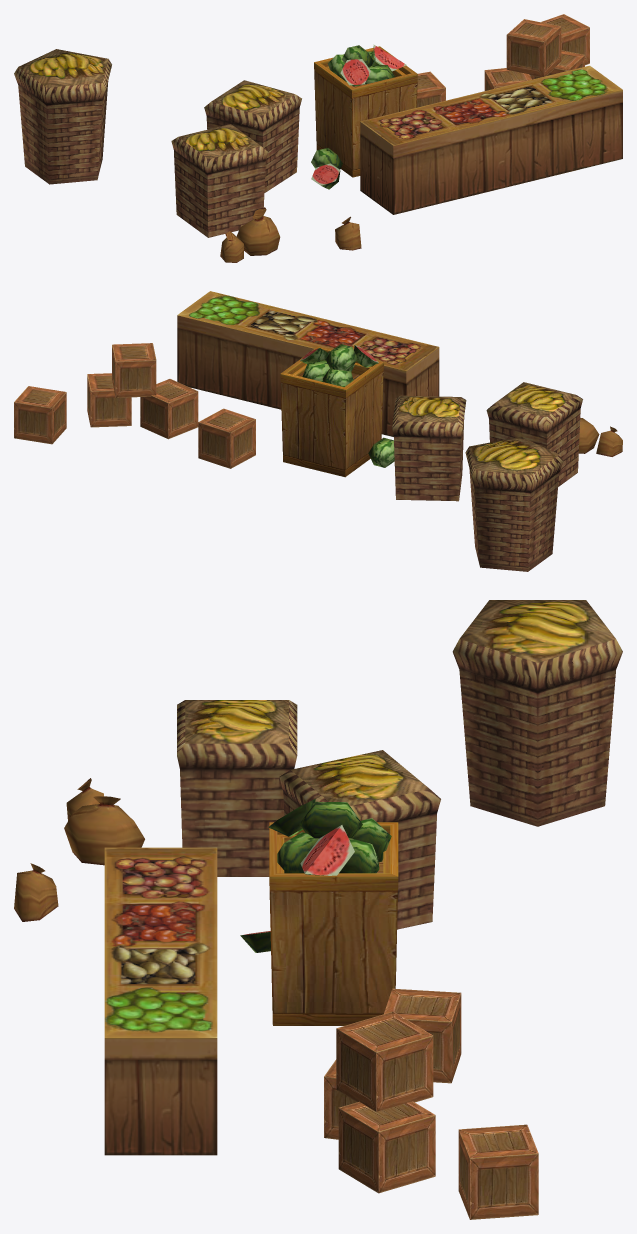
The model's file is szc_object_tanwei09a.FBX.
The picture shows the model from 3 angles, top to bottom: view 1: azimuth 30°, elevation 25°; view 2: azimuth 150°, elevation 25°; view 3: azimuth 270°, elevation 25°; orthographic projection. The views are drawn at different scales.
Visible parts, largest first — view 1: szc_object_tanwei09a; view 2: szc_object_tanwei09a; view 3: szc_object_tanwei09a.
Part boxes in pixels (left/top/right/bottom): szc_object_tanwei09a: left=14, top=14, right=622, bottom=262; szc_object_tanwei09a: left=14, top=291, right=622, bottom=571; szc_object_tanwei09a: left=14, top=600, right=622, bottom=1219.
Size of the model in its own units: 624 by 122 by 359.
